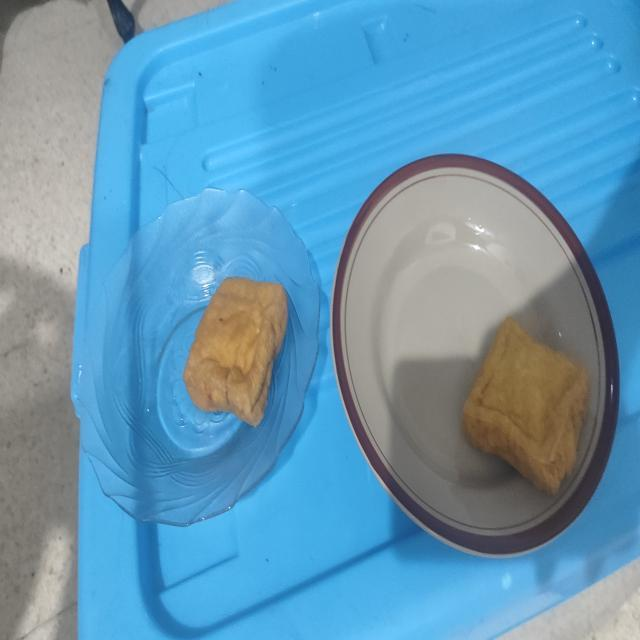tahu_goreng: (462, 316, 589, 494), (184, 277, 288, 427)
